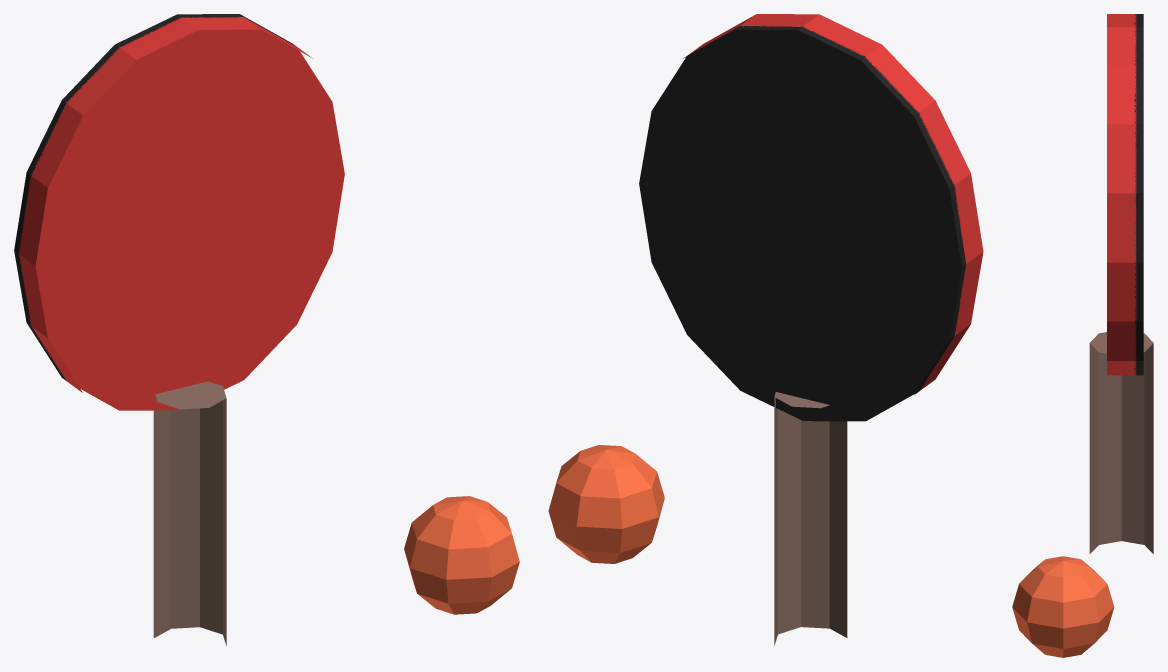
File: pingisracket.glb
3 renders of one model, left to right at view 1: azimuth 30°, elevation 25°; view 2: azimuth 150°, elevation 25°; view 3: azimuth 270°, elevation 25°, orthographic. The views are drawn at different scales.
Visible parts, largest first — view 1: pingisracket; view 2: pingisracket; view 3: pingisracket.
Part boxes in pixels (<box>): pingisracket: <box>14,14,519,645</box>; pingisracket: <box>548,14,983,645</box>; pingisracket: <box>1012,14,1153,657</box>.
Bounding box in the file's own units: 0.305 × 0.3985 × 0.097.
